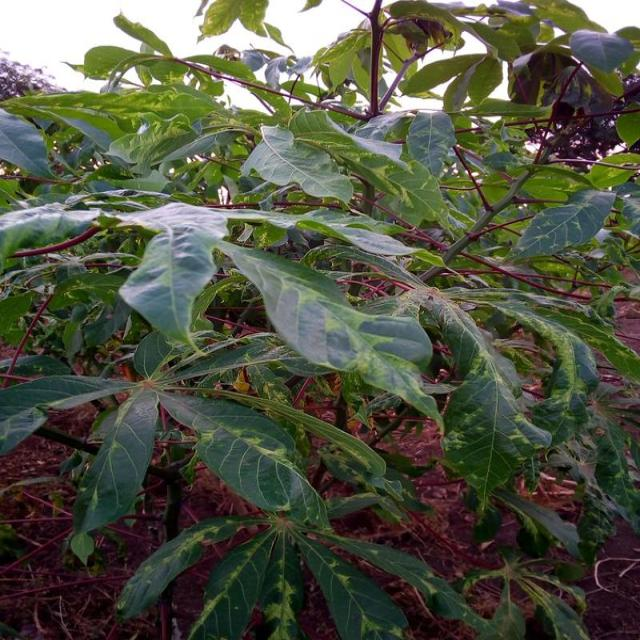cassava leaf: (0, 1, 638, 637), (216, 235, 444, 435)
